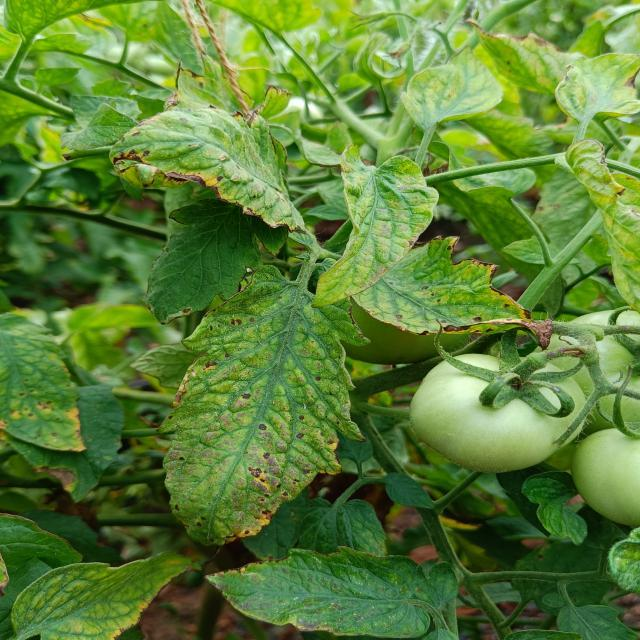Tomato mosaic virus leaf: (150, 261, 364, 553), (365, 232, 564, 351)
